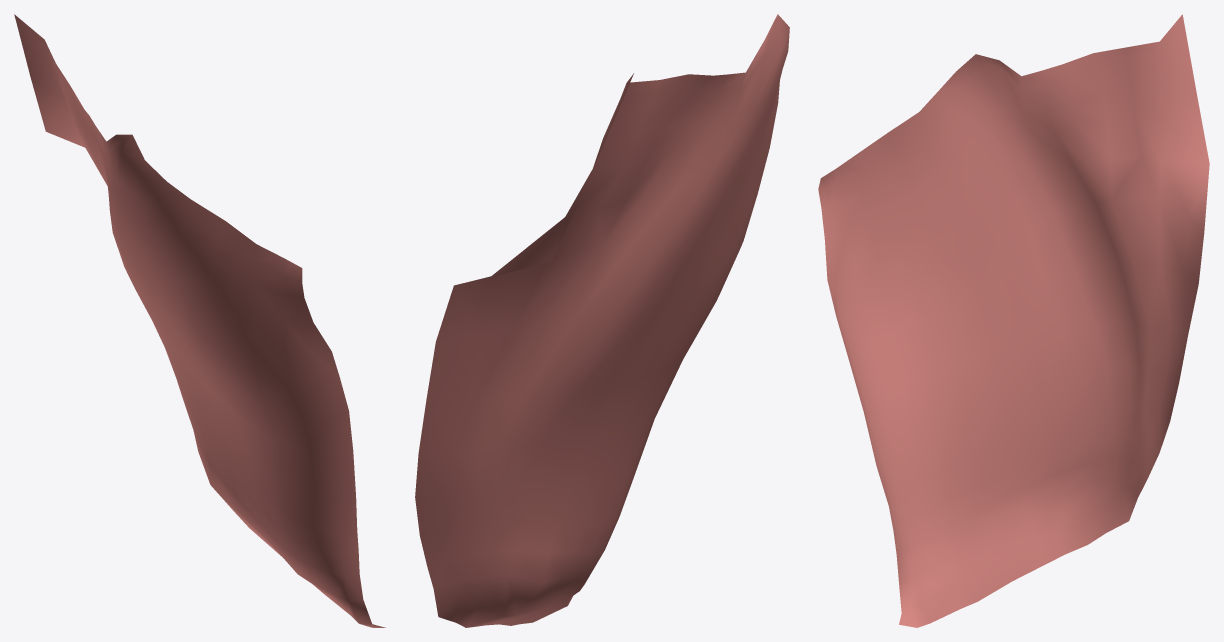
3 views of the same model, side by side, from view 1: azimuth 30°, elevation 25°; view 2: azimuth 150°, elevation 25°; view 3: azimuth 270°, elevation 25° (orthographic). The views are drawn at different scales.
Visible parts, largest first — view 1: ZA_b70520c47328daec; view 2: ZA_b70520c47328daec; view 3: ZA_b70520c47328daec.
Boxes of the visible parts, x1,y1,x2,y2 form: ZA_b70520c47328daec: [14, 14, 385, 627]; ZA_b70520c47328daec: [415, 14, 789, 627]; ZA_b70520c47328daec: [818, 14, 1209, 627].
Size of the model in its own units: 0.0283 by 0.069 by 0.0473.
